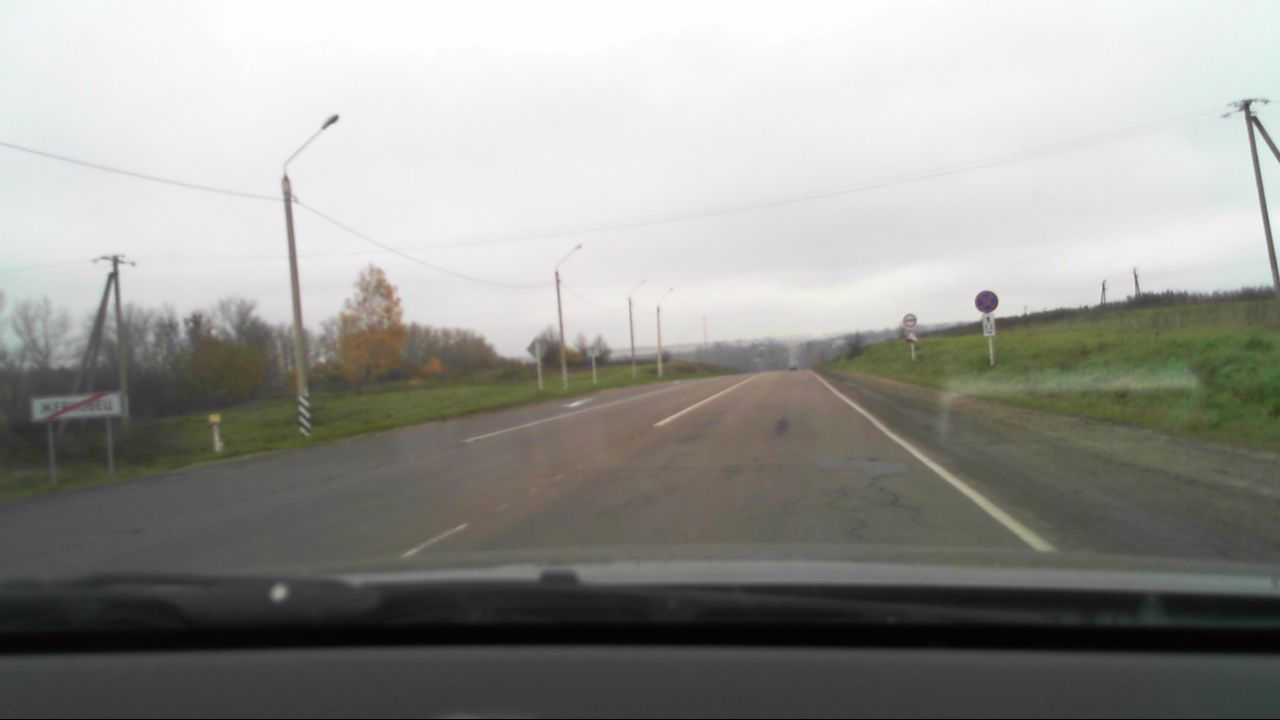No Parking: (974, 289, 999, 312)
